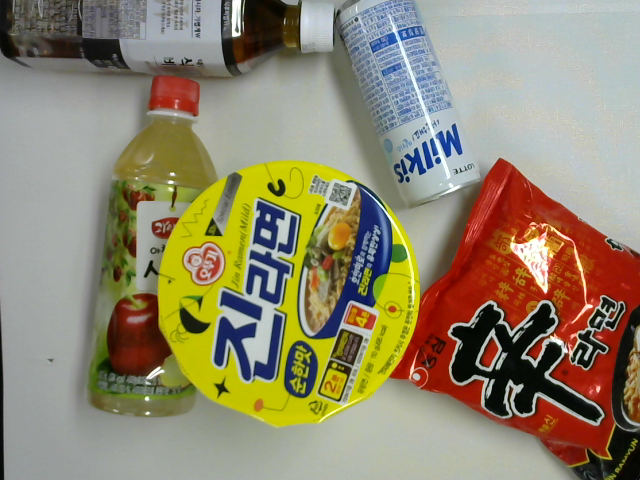Jinlamyeon_Mild_Taste_Large_Cup: (154, 160, 423, 428)
Milkies_250ml: (332, 1, 484, 205)
Morning_Apple_500ml: (82, 75, 223, 420)
Post-meal_recipe_W_tea_500ml: (1, 1, 339, 81)
Sinramen: (387, 157, 640, 479)
